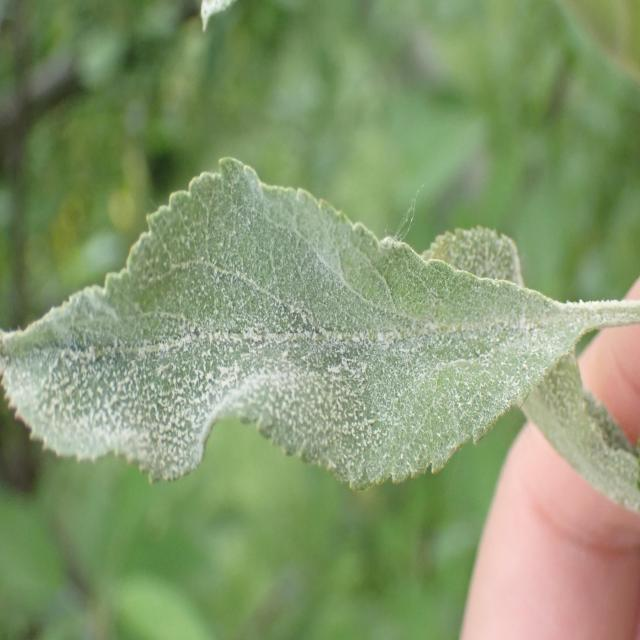Powdery_mildew: (0, 172, 625, 478), (426, 186, 640, 544)
